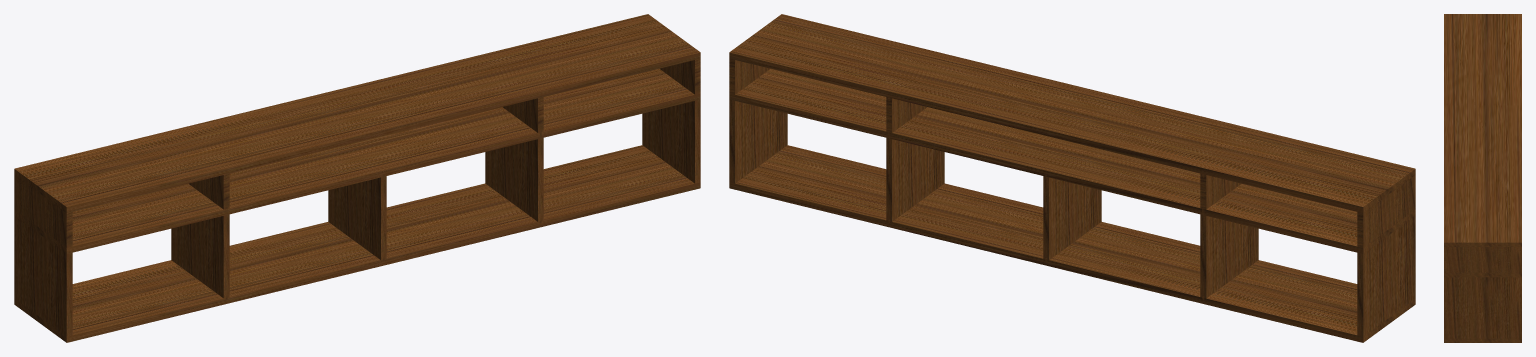
3 views of the same model, side by side, from view 1: azimuth 30°, elevation 25°; view 2: azimuth 150°, elevation 25°; view 3: azimuth 270°, elevation 25° (orthographic). The views are drawn at different scales.
Parts seen in each view (by area): view 1: DSG; view 2: DSG; view 3: DSG.
Boxes of the visible parts, <box> form: DSG: <box>14,14,700,342</box>; DSG: <box>729,14,1415,342</box>; DSG: <box>1444,14,1521,342</box>.
Size of the model in its own units: 1.95 by 0.3992 by 0.28.
Materials: 1 (1 with a texture image).
